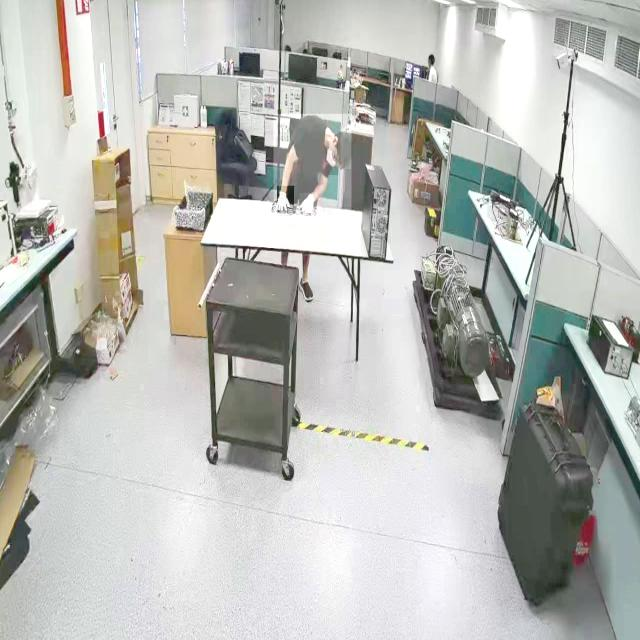face_mask: (326, 141, 338, 175)
hand_glove: (277, 186, 295, 217), (300, 193, 318, 218)
head_nohelmet: (340, 126, 352, 170), (428, 54, 434, 60)
person: (274, 114, 352, 223)
shoes: (296, 273, 314, 303)
